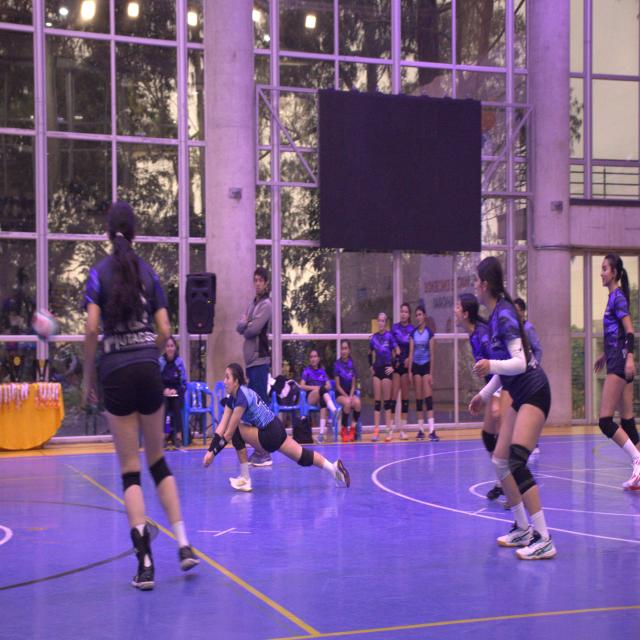volleyball: (31, 311, 59, 341)
